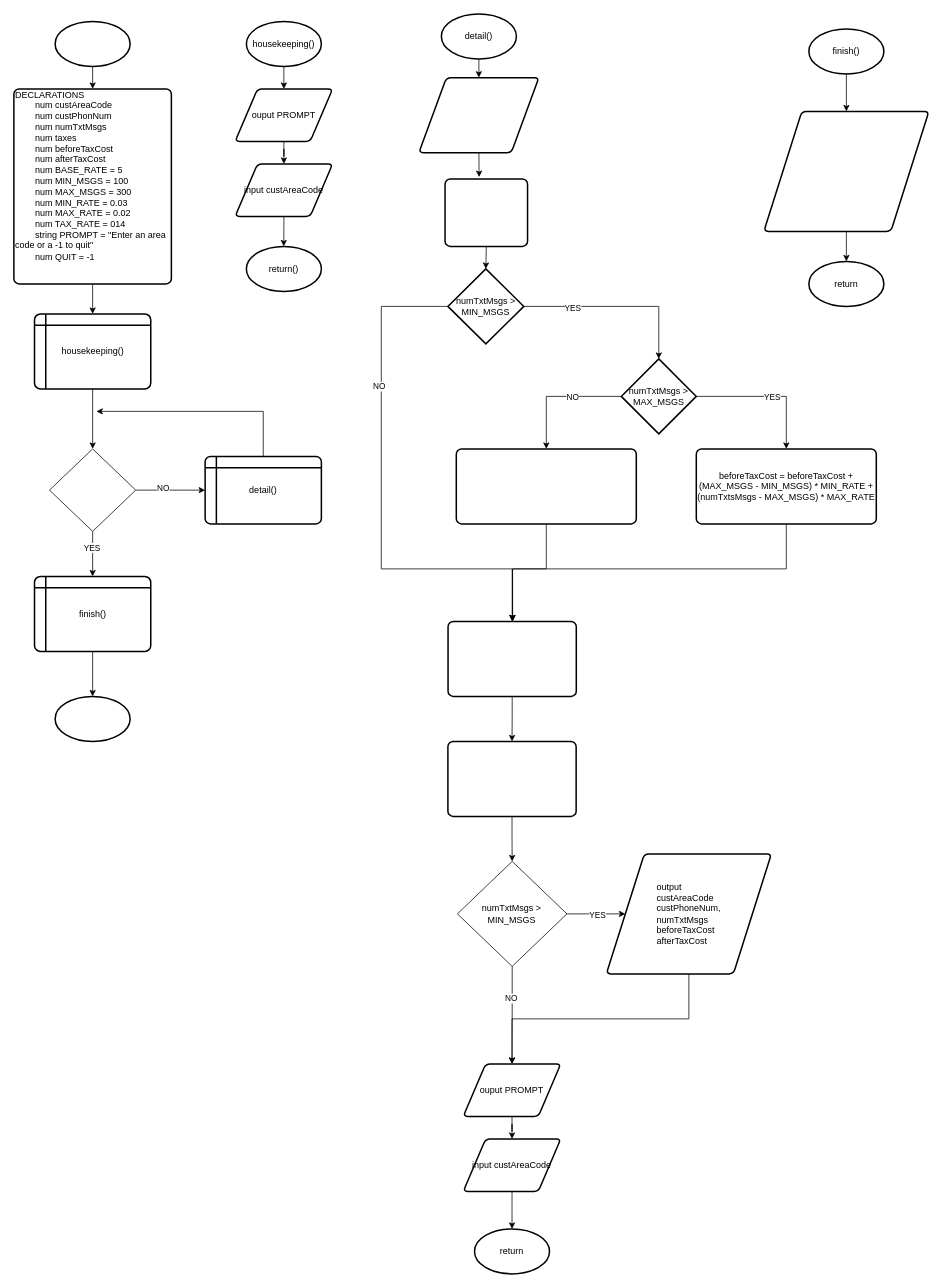
This 942x1287 diagram has some shape labels left out. The shapes that lost their labels are listed below. From the top down, each one's box as (x1, y1, x2, y2) in pixels, then its label:
(54, 20, 130, 67): START
(418, 76, 539, 153): input custPhoneNum numTxtMsgs
(763, 110, 929, 232): output "END OF PROGRAM"
(444, 178, 528, 247): beforeTaxCost = BASE_RATE
(49, 448, 136, 531): custAreaCode = QUIT
(455, 448, 637, 524): beforeTaxCost = beforeTaxCost + (numTxtsMsgs - MIN_MSGS) * MIN_RATE
(447, 620, 577, 697): taxes = beforeTaxCost * TAX_RATE
(54, 695, 130, 742): STOP
(447, 740, 577, 817): afterTaxCost = beforeTaxCost + taxes
